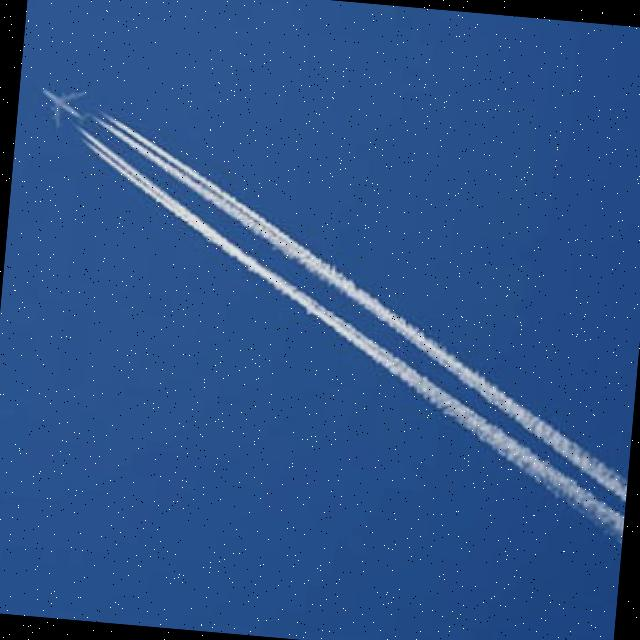Ct: (5, 66, 640, 562)
